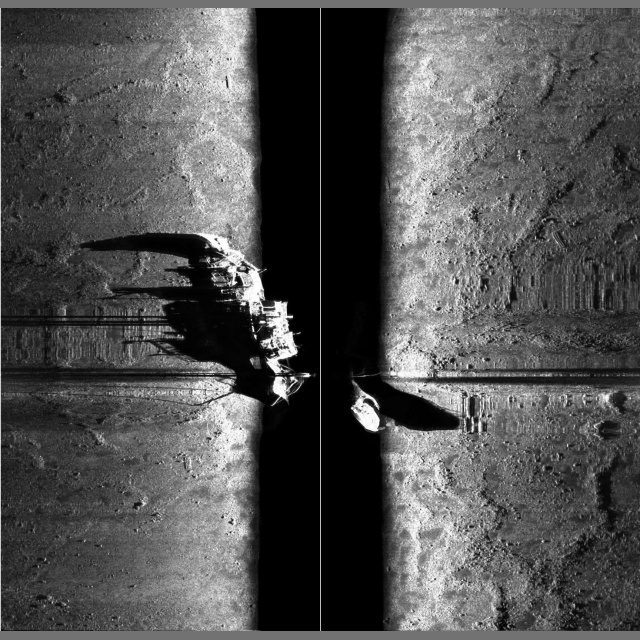Shipwreck: (81, 75, 566, 471)
